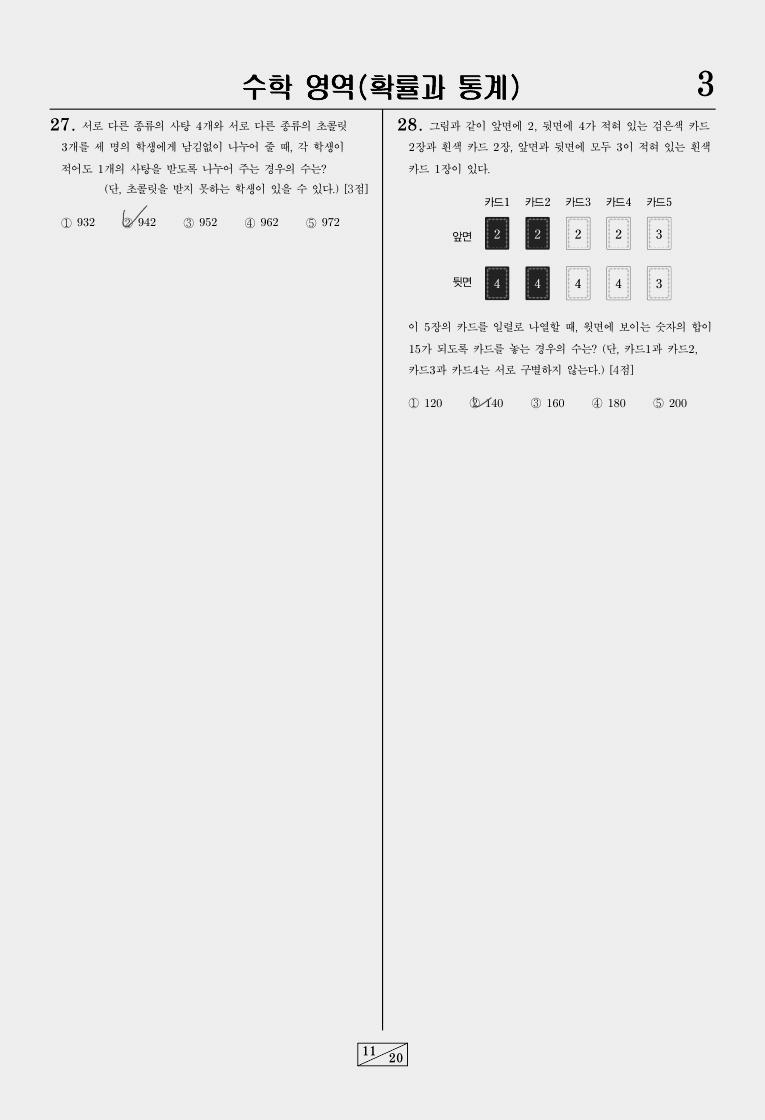question: (382, 113, 727, 426), (38, 112, 379, 244)
